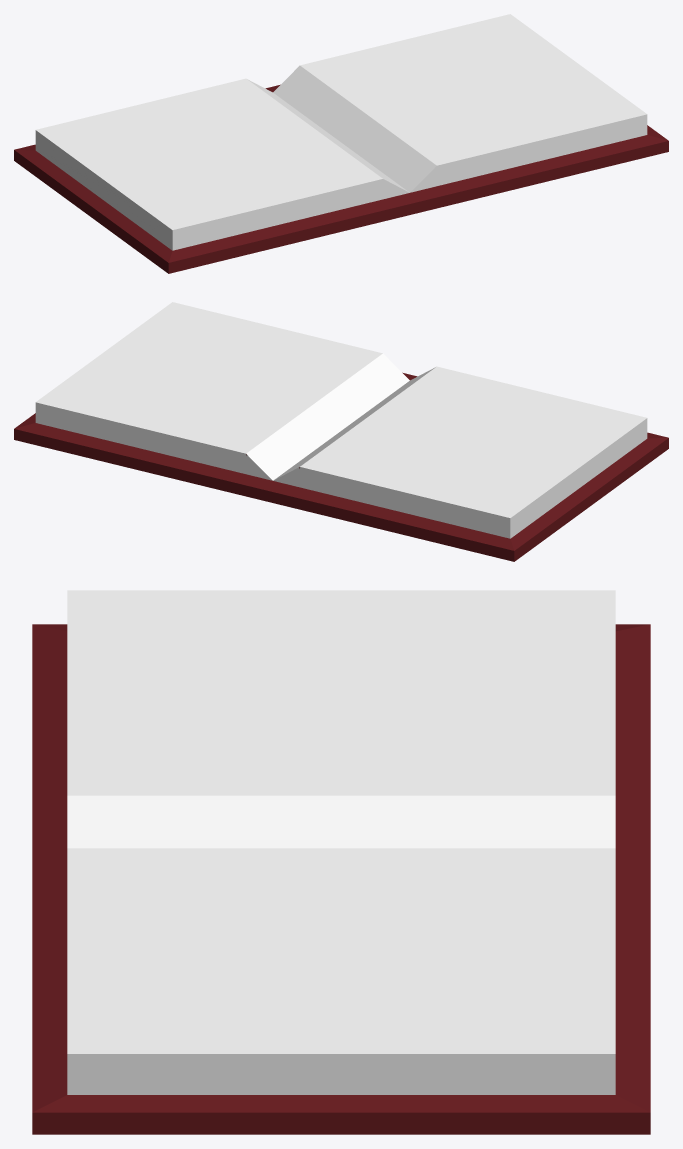
Rendered from book open.fbx.
3 renders of one model, top to bottom at view 1: azimuth 30°, elevation 25°; view 2: azimuth 150°, elevation 25°; view 3: azimuth 270°, elevation 25°, orthographic. The views are drawn at different scales.
Parts seen in each view (by area): view 1: book open; view 2: book open; view 3: book open.
Boxes of the visible parts, x1,y1,x2,y2 form: book open: (14,14,668,273); book open: (14,302,668,561); book open: (32,590,650,1134).
Size of the model in its own units: 42.68 by 2.79 by 22.84.
